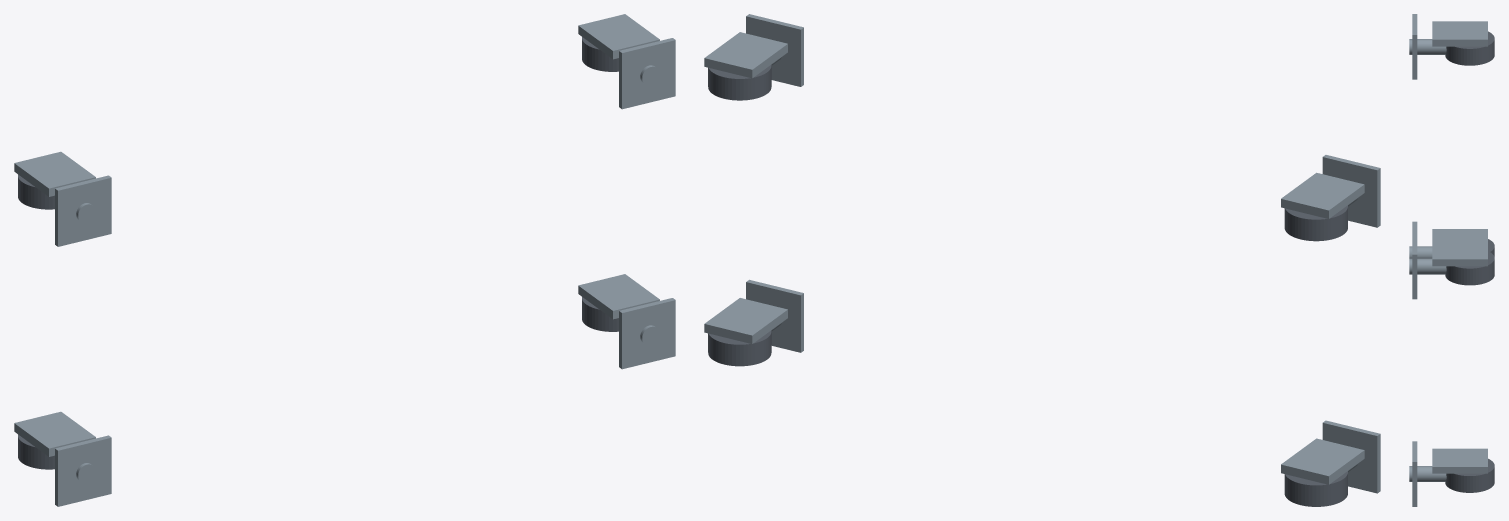
The model's file is A06_ROULETTES.glb.
3 renders of one model, left to right at view 1: azimuth 30°, elevation 25°; view 2: azimuth 150°, elevation 25°; view 3: azimuth 270°, elevation 25°, orthographic. The views are drawn at different scales.
Parts seen in each view (by area): view 1: S04_11, S04_15, S04_3, S04_7, S02_1, S02_5, S02_9, S02_13, S01_0, S01_4, S01_8, S01_12; view 2: S02_13, S02_9, S02_1, S02_5, S04_3, S04_7, S04_11, S04_15, S01_8, S01_12, S01_0, S01_4; view 3: S02_5, S02_9, S02_13, S01_8, S01_4, S01_12, S02_1, S03_14, S03_6, S03_10, S04_15, S04_7 (+2 smaller).
Part boxes in pixels (x1=…): S04_11: x1=619, y1=298, x2=675, y2=369; S04_15: x1=619, y1=38, x2=675, y2=109; S04_3: x1=55, y1=435, x2=111, y2=506; S04_7: x1=55, y1=175, x2=111, y2=246; S02_1: x1=14, y1=411, x2=95, y2=456; S02_5: x1=14, y1=151, x2=95, y2=196; S02_9: x1=578, y1=274, x2=659, y2=319; S02_13: x1=578, y1=14, x2=659, y2=59; S01_0: x1=18, y1=434, x2=54, y2=469; S01_4: x1=18, y1=174, x2=54, y2=209; S01_8: x1=582, y1=297, x2=618, y2=331; S01_12: x1=582, y1=37, x2=618, y2=71; S02_13: x1=704, y1=32, x2=787, y2=78; S02_9: x1=704, y1=298, x2=787, y2=343; S02_1: x1=1281, y1=438, x2=1364, y2=484; S02_5: x1=1281, y1=172, x2=1364, y2=218; S04_3: x1=1322, y1=420, x2=1380, y2=493; S04_7: x1=1322, y1=155, x2=1380, y2=227; S04_11: x1=746, y1=279, x2=803, y2=352; S04_15: x1=746, y1=14, x2=803, y2=86; S01_8: x1=708, y1=330, x2=771, y2=366; S01_12: x1=708, y1=65, x2=771, y2=100; S01_0: x1=1284, y1=471, x2=1347, y2=506; S01_4: x1=1284, y1=205, x2=1347, y2=241; S02_5: x1=1432, y1=21, x2=1487, y2=46; S02_9: x1=1432, y1=448, x2=1487, y2=473; S02_13: x1=1432, y1=241, x2=1487, y2=266; S01_8: x1=1445, y1=458, x2=1494, y2=492; S01_4: x1=1445, y1=31, x2=1494, y2=65; S01_12: x1=1445, y1=251, x2=1494, y2=285; S02_1: x1=1432, y1=229, x2=1487, y2=240; S03_14: x1=1409, y1=258, x2=1446, y2=274; S03_6: x1=1409, y1=39, x2=1446, y2=54; S03_10: x1=1409, y1=466, x2=1446, y2=481; S04_15: x1=1412, y1=233, x2=1417, y2=299; S04_7: x1=1412, y1=14, x2=1417, y2=79.
Bounding box in the file's own units: 920 × 450 × 138.
